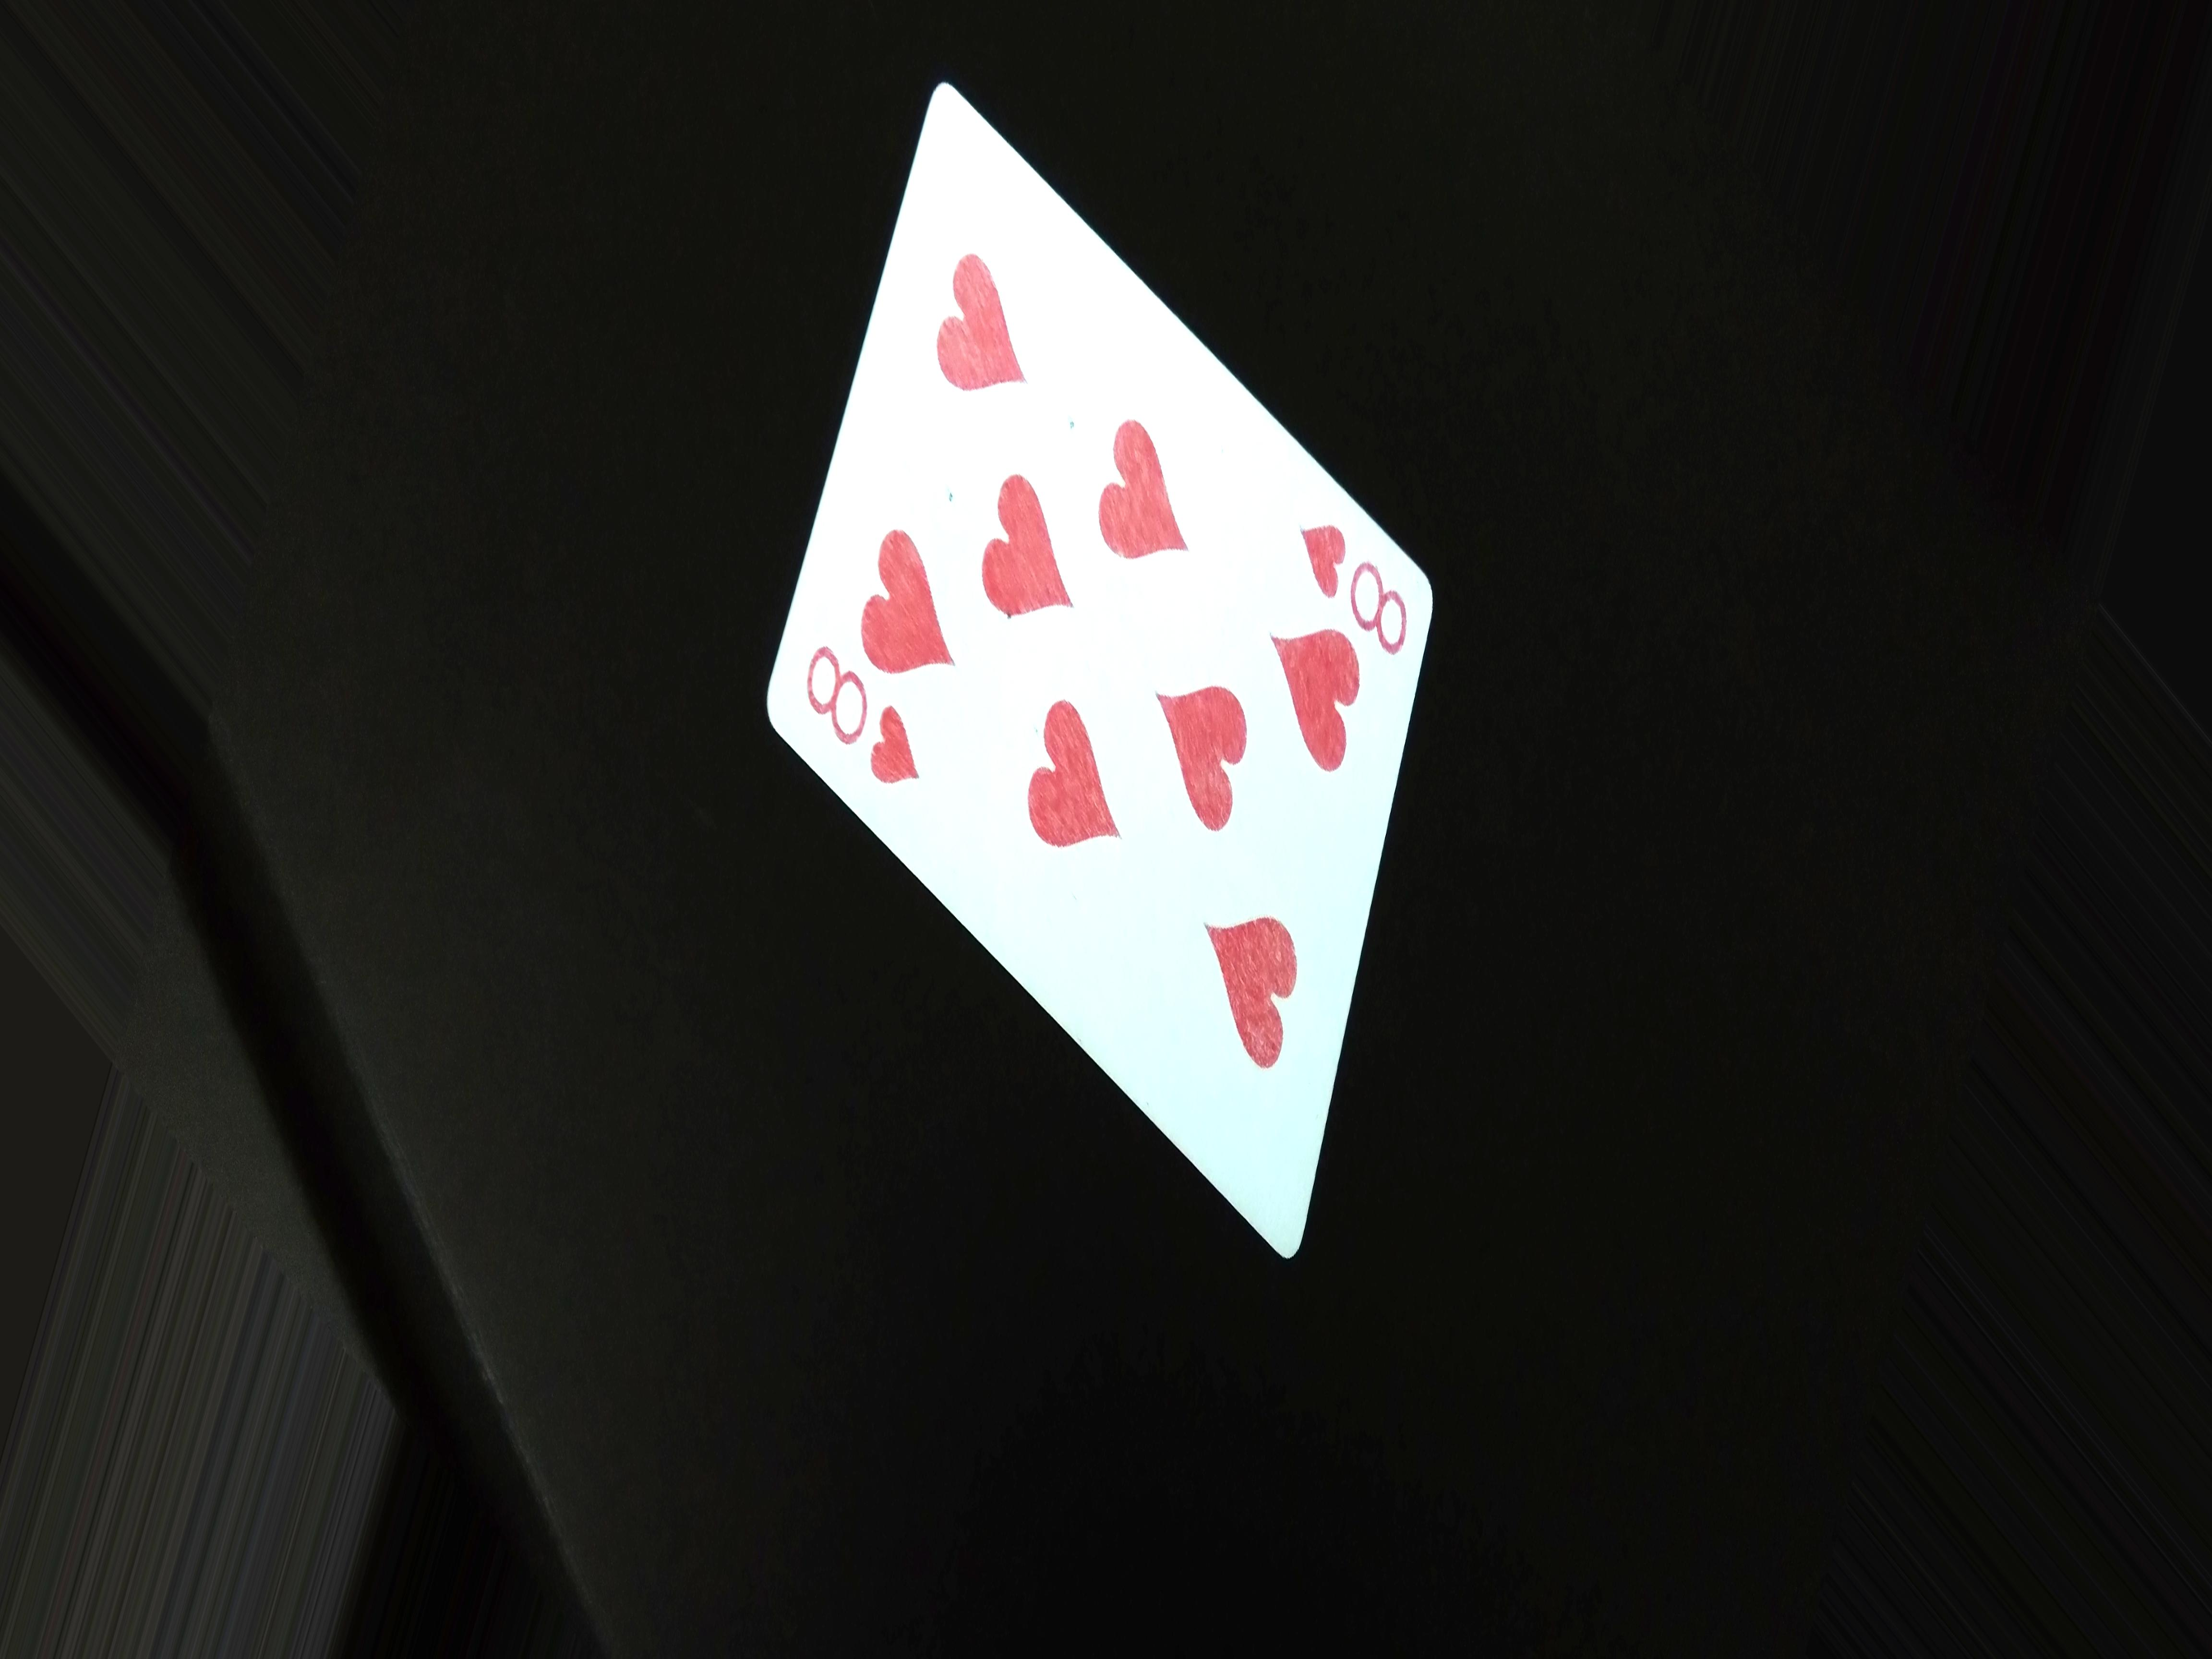8H: (782, 633, 923, 810)
